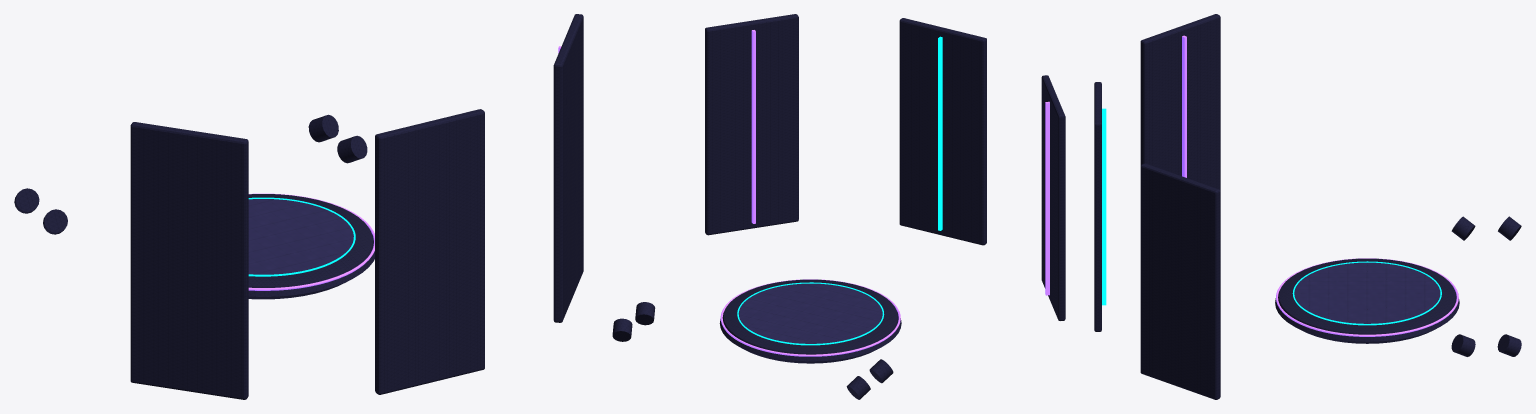
Rendered from env_lobby_stage.glb.
The picture shows the model from 3 angles, left to right: view 1: azimuth 30°, elevation 25°; view 2: azimuth 150°, elevation 25°; view 3: azimuth 270°, elevation 25°; orthographic projection. The views are drawn at different scales.
Visible parts, largest first — view 1: env_lobby_stage; view 2: env_lobby_stage; view 3: env_lobby_stage.
Boxes of the visible parts, <box> form: env_lobby_stage: <box>14,14,583,399</box>; env_lobby_stage: <box>612,14,1065,399</box>; env_lobby_stage: <box>1094,14,1521,399</box>.
Bounding box in the file's own units: 10.98 × 6 × 11.11.
4 materials, 2 textured.
